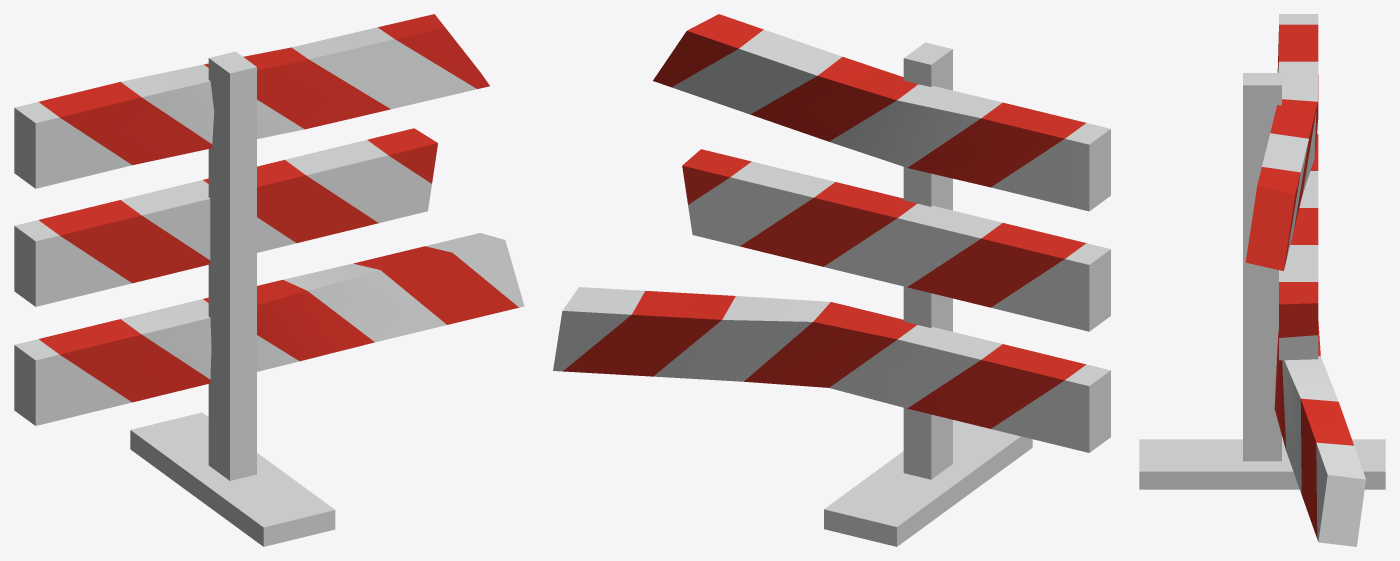
Rendered from SM_Obstacle_C_Wall_Break_Rt.fbx.
3 views of the same model, side by side, from view 1: azimuth 30°, elevation 25°; view 2: azimuth 150°, elevation 25°; view 3: azimuth 270°, elevation 25° (orthographic). The views are drawn at different scales.
Parts seen in each view (by area): view 1: SM_Obstacle_C_Wall_Break_Rt; view 2: SM_Obstacle_C_Wall_Break_Rt; view 3: SM_Obstacle_C_Wall_Break_Rt.
Part boxes in pixels (box(x1,y1,x2,y2)): SM_Obstacle_C_Wall_Break_Rt: box(14, 14, 524, 546); SM_Obstacle_C_Wall_Break_Rt: box(553, 14, 1110, 546); SM_Obstacle_C_Wall_Break_Rt: box(1139, 14, 1385, 546).
Bounding box in the file's own units: 134 × 107 × 60.8.
